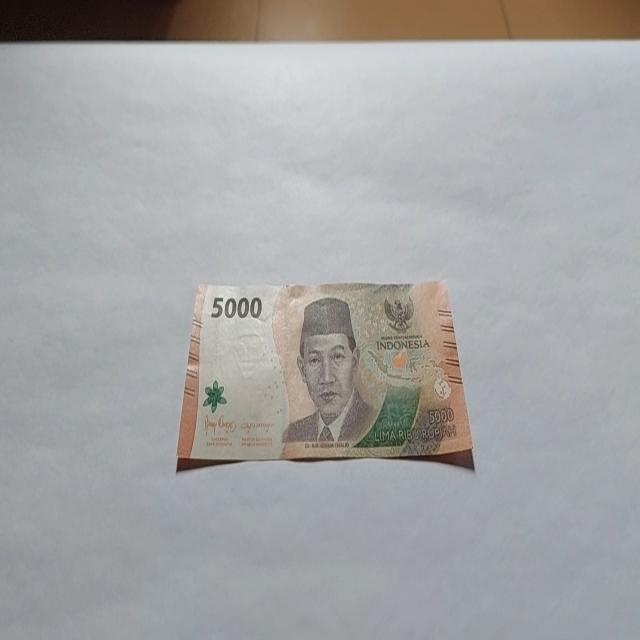lima ribu rupiah: (175, 278, 476, 473), (280, 295, 378, 447)
